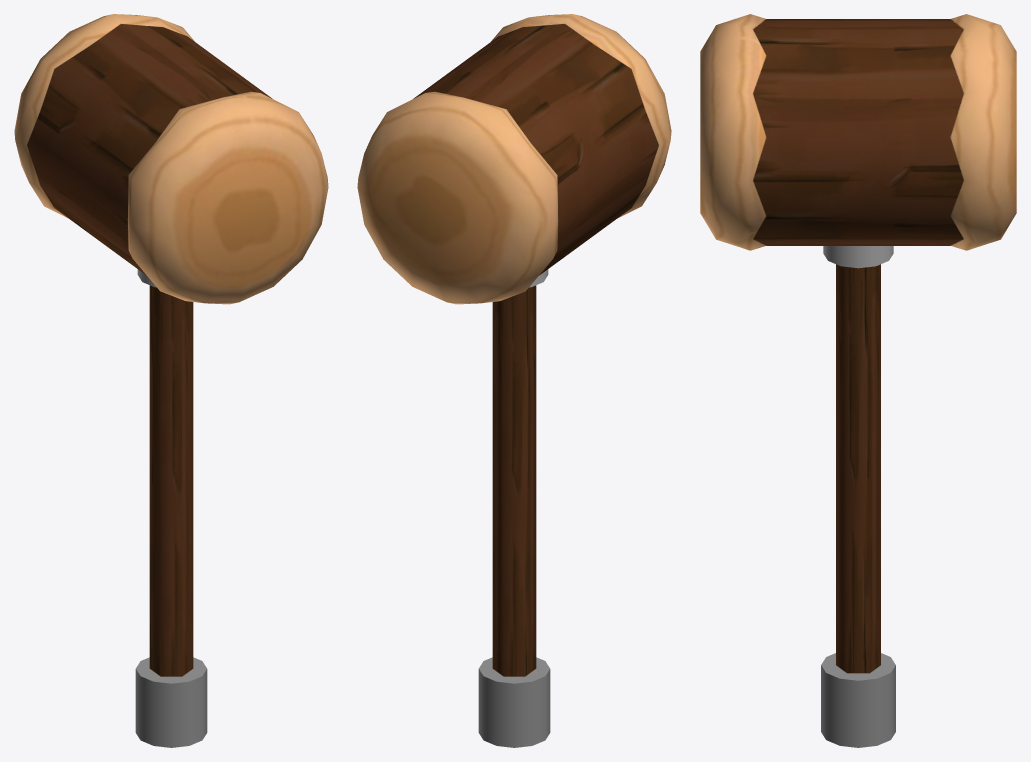
File: OBS0110234.fbx
3 views of the same model, side by side, from view 1: azimuth 30°, elevation 25°; view 2: azimuth 150°, elevation 25°; view 3: azimuth 270°, elevation 25° (orthographic). The views are drawn at different scales.
Parts seen in each view (by area): view 1: smOBS0110234; view 2: smOBS0110234; view 3: smOBS0110234.
Boxes of the visible parts, x1,y1,x2,y2 form: smOBS0110234: [14, 14, 328, 747]; smOBS0110234: [357, 14, 671, 747]; smOBS0110234: [700, 14, 1016, 747].
Size of the model in its own units: 141 by 463 by 188.
1 material, 1 textured.
